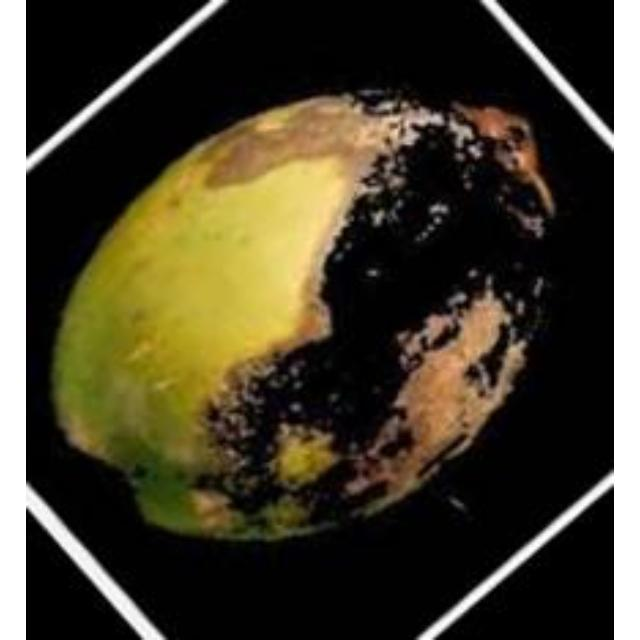damaged: (45, 88, 576, 544)
